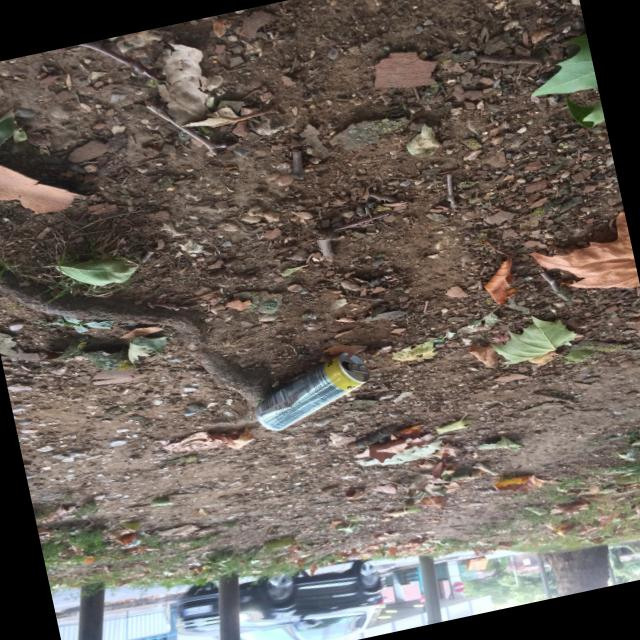less trash: (254, 353, 370, 430)
